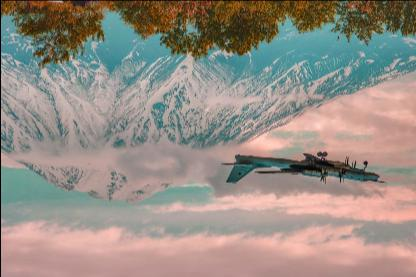Su57: (220, 152, 386, 184)
